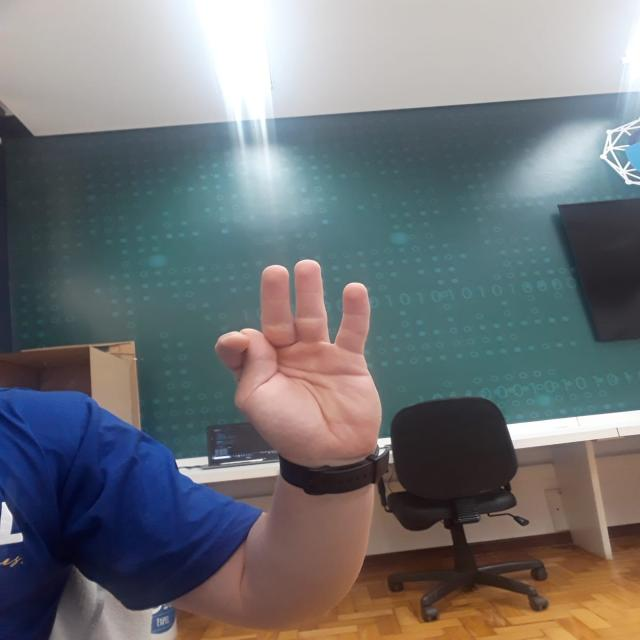T: (209, 257, 392, 455)
